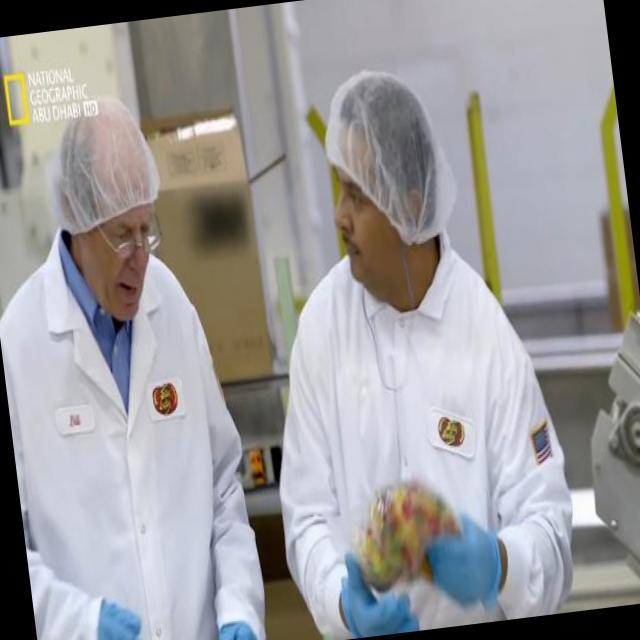hairnet: (320, 69, 458, 238), (44, 97, 158, 225)
